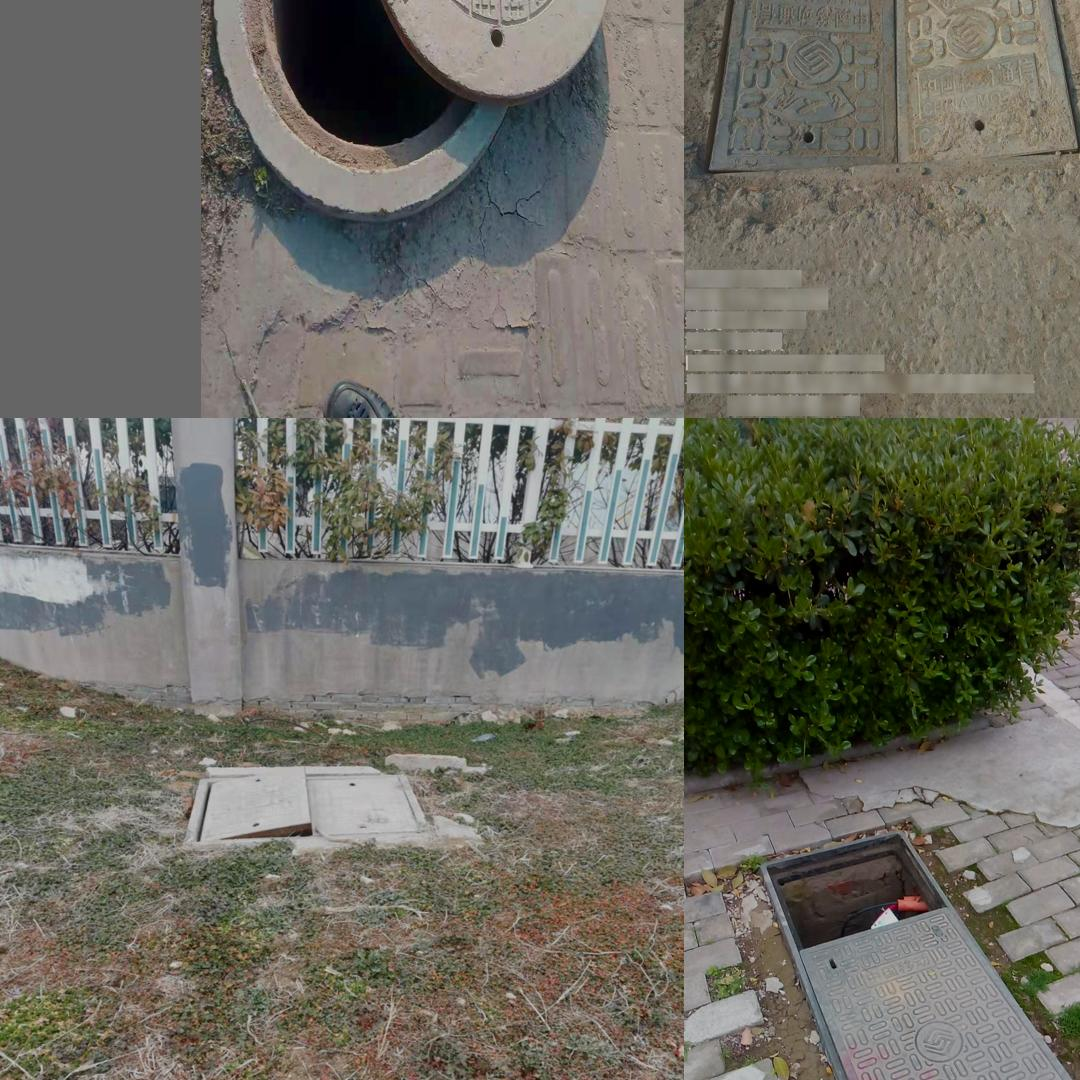uncovered: (215, 0, 609, 211), (759, 840, 1080, 1080), (704, 0, 1080, 176), (184, 743, 438, 850)
